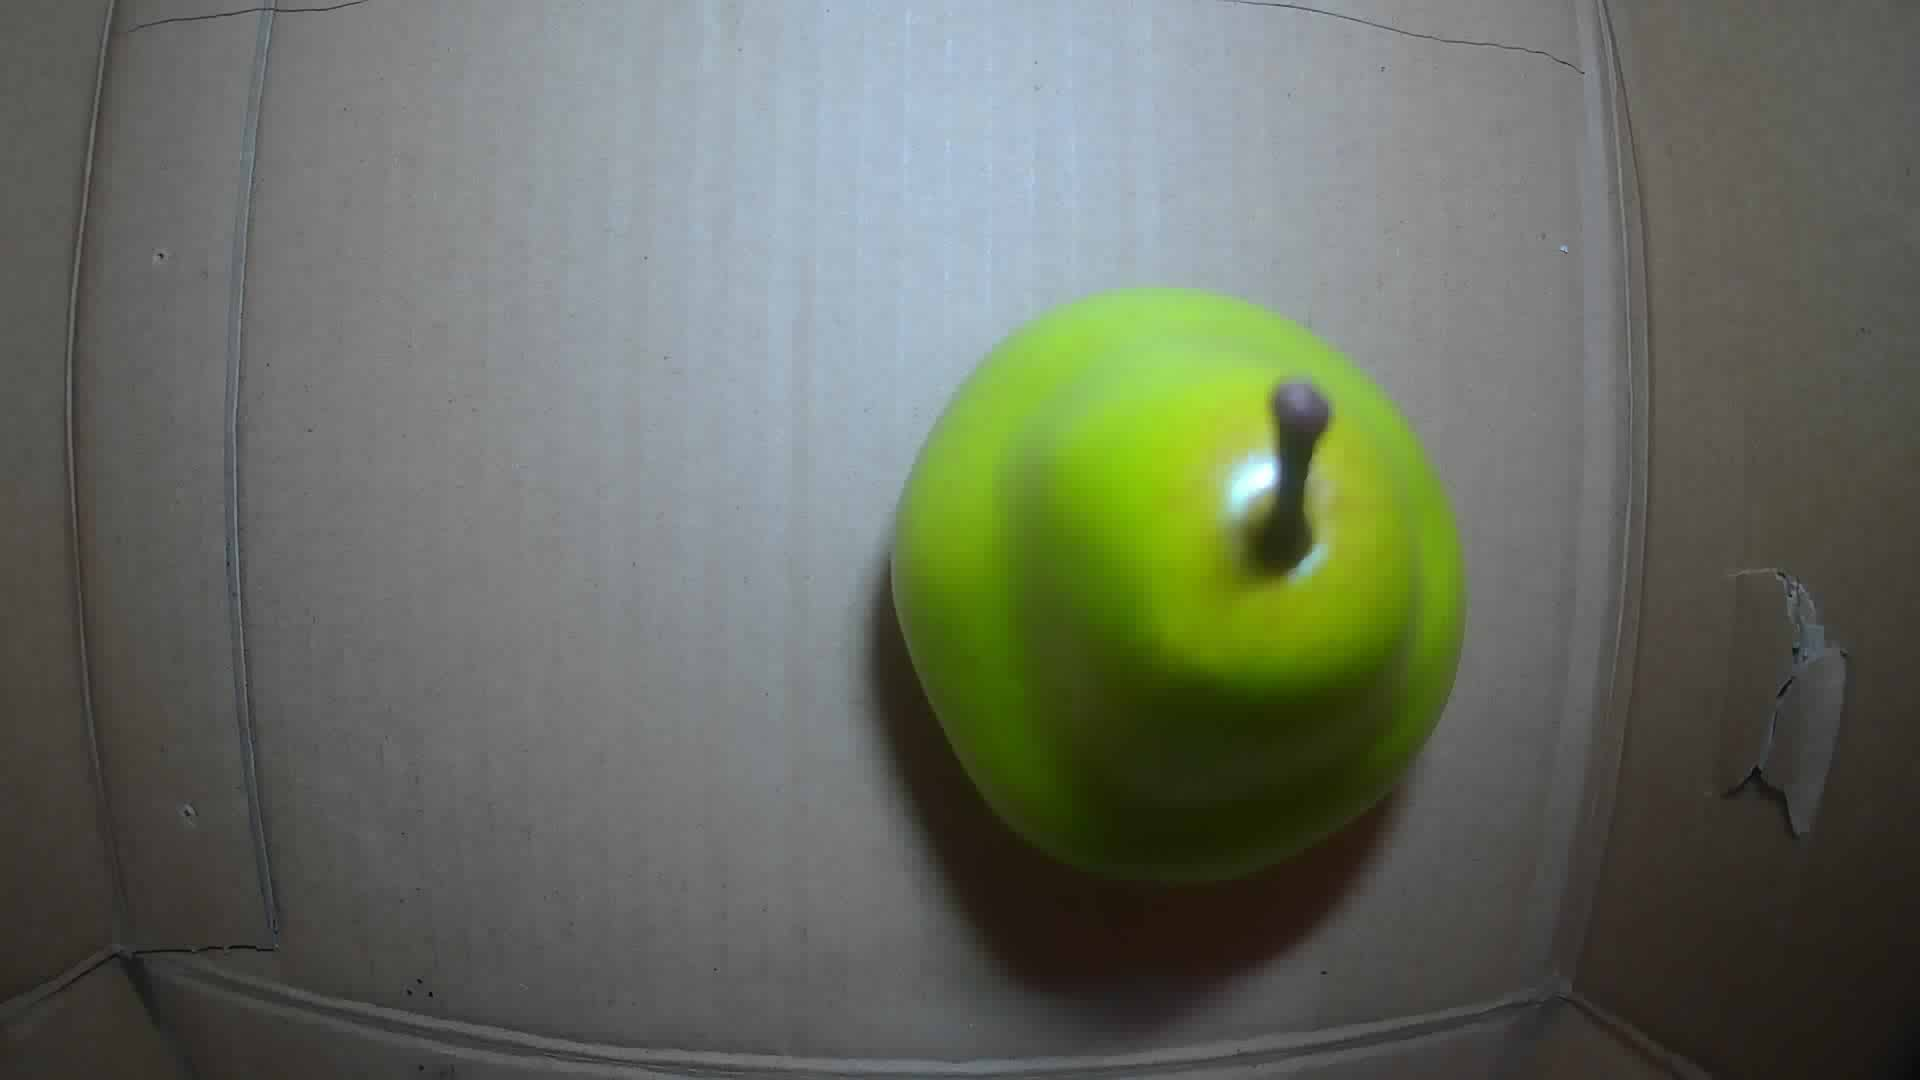pear: (887, 285, 1466, 884)
